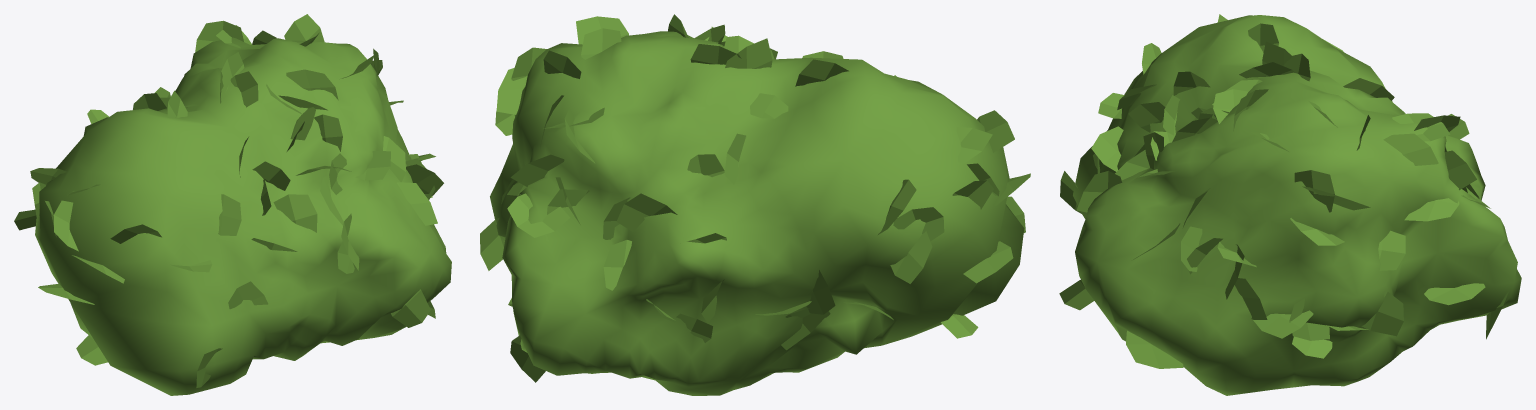
Rendered from bush.fbx.
3 views of the same model, side by side, from view 1: azimuth 30°, elevation 25°; view 2: azimuth 150°, elevation 25°; view 3: azimuth 270°, elevation 25° (orthographic). The views are drawn at different scales.
Visible parts, largest first — view 1: Icosphere, Icosphere|leaf|Dupli|55, Icosphere|leaf|Dupli|57, Icosphere|leaf|Dupli|72, Icosphere|leaf|Dupli|51, Icosphere|leaf|Dupli|33, Icosphere|leaf|Dupli|16, Icosphere|leaf|Dupli|12, Icosphere|leaf|Dupli|47, Icosphere|leaf|Dupli|58, Icosphere|leaf|Dupli|6, Icosphere|leaf|Dupli|32 (+13 smaller); view 2: Icosphere, Icosphere|leaf|Dupli|62, Icosphere|leaf|Dupli|17, Icosphere|leaf|Dupli|43, Icosphere|leaf|Dupli|19, Icosphere|leaf|Dupli|45, Icosphere|leaf|Dupli|35, Icosphere|leaf|Dupli|44, Icosphere|leaf|Dupli|70, Icosphere|leaf|Dupli|5, Icosphere|leaf|Dupli|39, Icosphere|leaf|Dupli|48 (+19 smaller); view 3: Icosphere, Icosphere|leaf|Dupli|73, Icosphere|leaf|Dupli|5, Icosphere|leaf|Dupli|13, Icosphere|leaf|Dupli|75, Icosphere|leaf|Dupli|36, Icosphere|leaf|Dupli|52, Icosphere|leaf|Dupli|10, Icosphere|leaf|Dupli|2, Icosphere|leaf|Dupli|54, Icosphere|leaf|Dupli|37, Icosphere|leaf|Dupli|14 (+23 smaller).
Part boxes in pixels (left/top/right/bottom): Icosphere: left=35, top=37, right=451, bottom=395; Icosphere|leaf|Dupli|55: left=273, top=194, right=317, bottom=232; Icosphere|leaf|Dupli|57: left=397, top=182, right=437, bottom=225; Icosphere|leaf|Dupli|72: left=391, top=289, right=430, bottom=327; Icosphere|leaf|Dupli|51: left=218, top=194, right=241, bottom=235; Icosphere|leaf|Dupli|33: left=286, top=69, right=338, bottom=100; Icosphere|leaf|Dupli|16: left=195, top=20, right=243, bottom=52; Icosphere|leaf|Dupli|12: left=284, top=14, right=324, bottom=42; Icosphere|leaf|Dupli|47: left=54, top=200, right=78, bottom=251; Icosphere|leaf|Dupli|58: left=406, top=164, right=443, bottom=195; Icosphere|leaf|Dupli|6: left=355, top=151, right=390, bottom=180; Icosphere|leaf|Dupli|32: left=314, top=114, right=342, bottom=151; Icosphere: left=490, top=31, right=1024, bottom=395; Icosphere|leaf|Dupli|62: left=507, top=193, right=570, bottom=237; Icosphere|leaf|Dupli|17: left=616, top=193, right=677, bottom=231; Icosphere|leaf|Dupli|43: left=890, top=231, right=932, bottom=283; Icosphere|leaf|Dupli|19: left=725, top=38, right=772, bottom=68; Icosphere|leaf|Dupli|45: left=893, top=207, right=944, bottom=241; Icosphere|leaf|Dupli|35: left=496, top=68, right=527, bottom=114; Icosphere|leaf|Dupli|44: left=963, top=241, right=1013, bottom=283; Icosphere|leaf|Dupli|70: left=977, top=110, right=1014, bottom=152; Icosphere|leaf|Dupli|5: left=480, top=218, right=504, bottom=270; Icosphere|leaf|Dupli|39: left=603, top=240, right=631, bottom=290; Icosphere|leaf|Dupli|48: left=956, top=127, right=992, bottom=163; Icosphere: left=1073, top=15, right=1521, bottom=395; Icosphere|leaf|Dupli|73: left=1126, top=330, right=1183, bottom=368; Icosphere|leaf|Dupli|5: left=1361, top=291, right=1403, bottom=336; Icosphere|leaf|Dupli|13: left=1383, top=133, right=1438, bottom=165; Icosphere|leaf|Dupli|75: left=1253, top=310, right=1313, bottom=338; Icosphere|leaf|Dupli|36: left=1378, top=230, right=1405, bottom=270; Icosphere|leaf|Dupli|52: left=1091, top=126, right=1123, bottom=171; Icosphere|leaf|Dupli|10: left=1294, top=170, right=1334, bottom=212; Icosphere|leaf|Dupli|2: left=1424, top=283, right=1485, bottom=305; Icosphere|leaf|Dupli|54: left=1077, top=171, right=1122, bottom=212; Icosphere|leaf|Dupli|37: left=1404, top=198, right=1459, bottom=221; Icosphere|leaf|Dupli|14: left=1444, top=150, right=1476, bottom=190.
Size of the model in its own units: 245 by 159 by 235.
